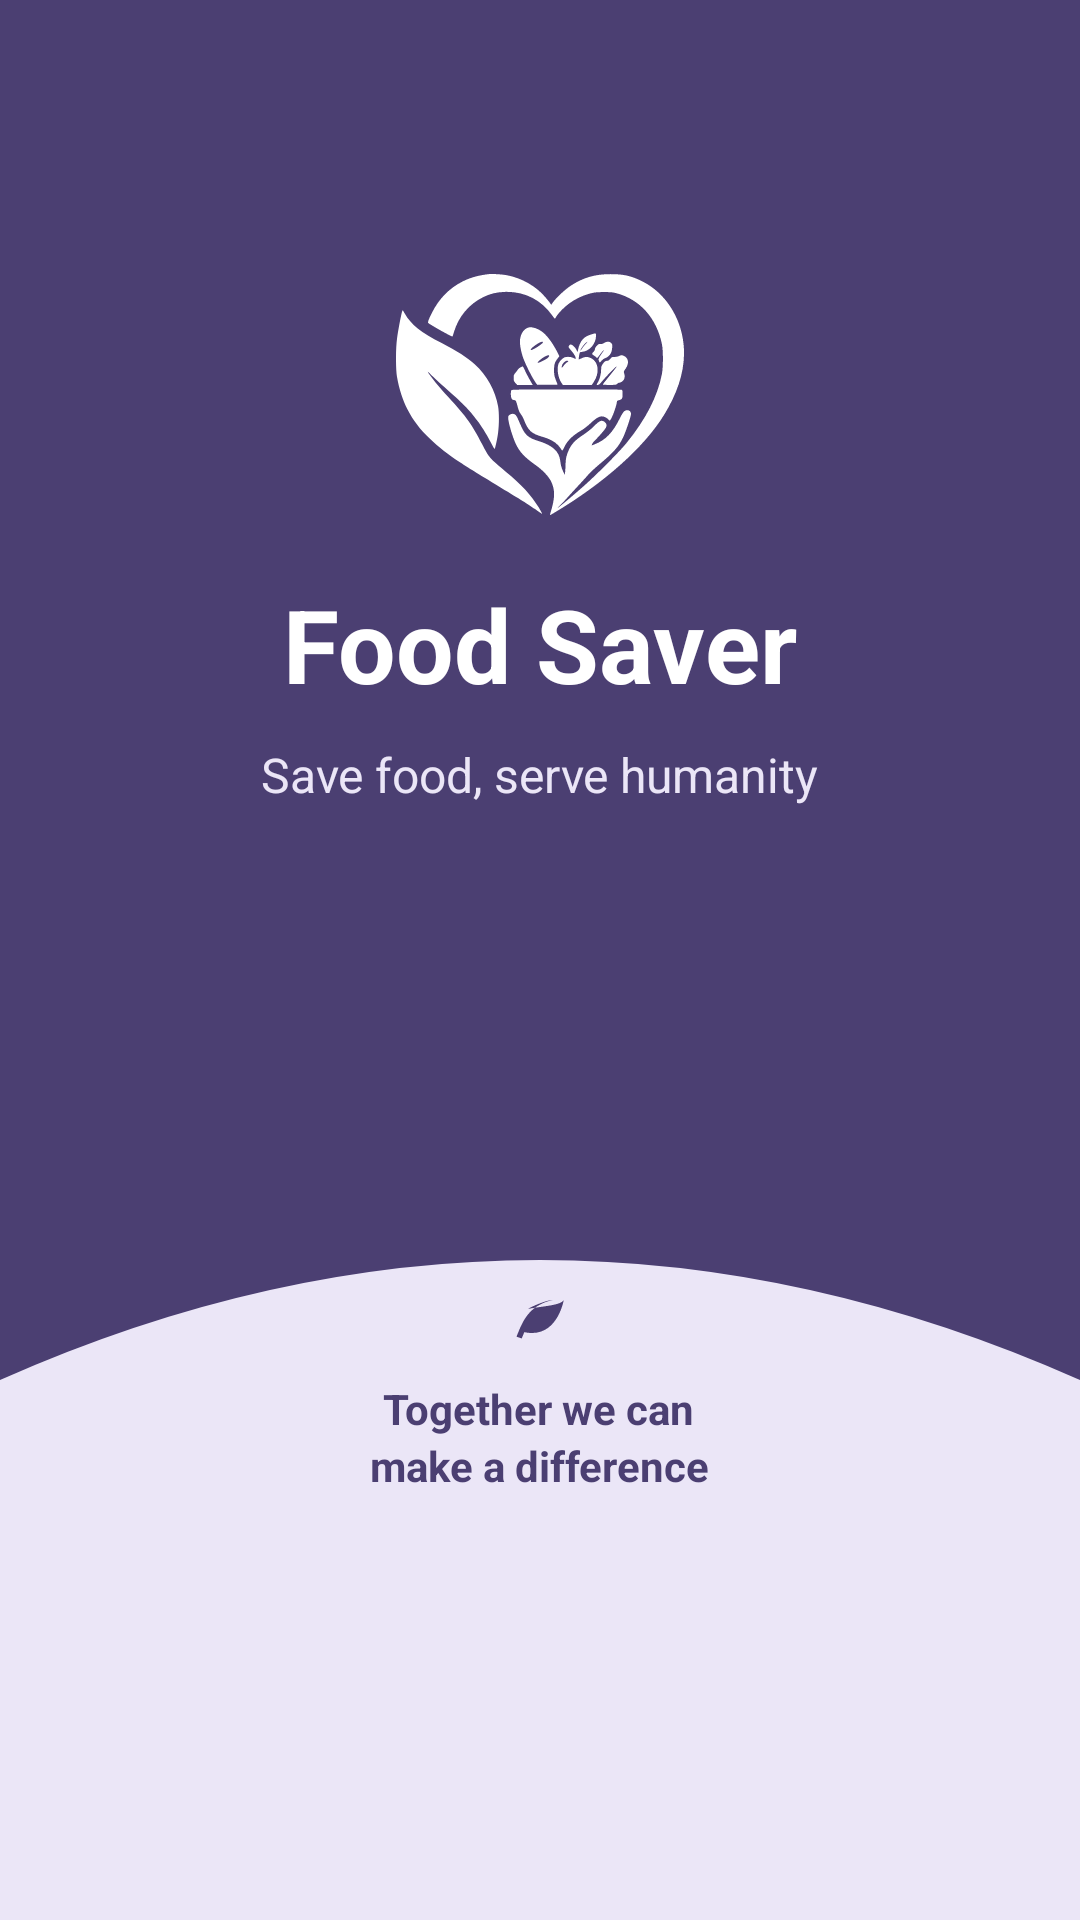

Named icons in this screenshot (1080x1920) and their bounding boxes, [x1=x1, y1=y1, x2=x2, y2=y2]:
leaf: [x1=516, y1=1300, x2=564, y2=1339]
